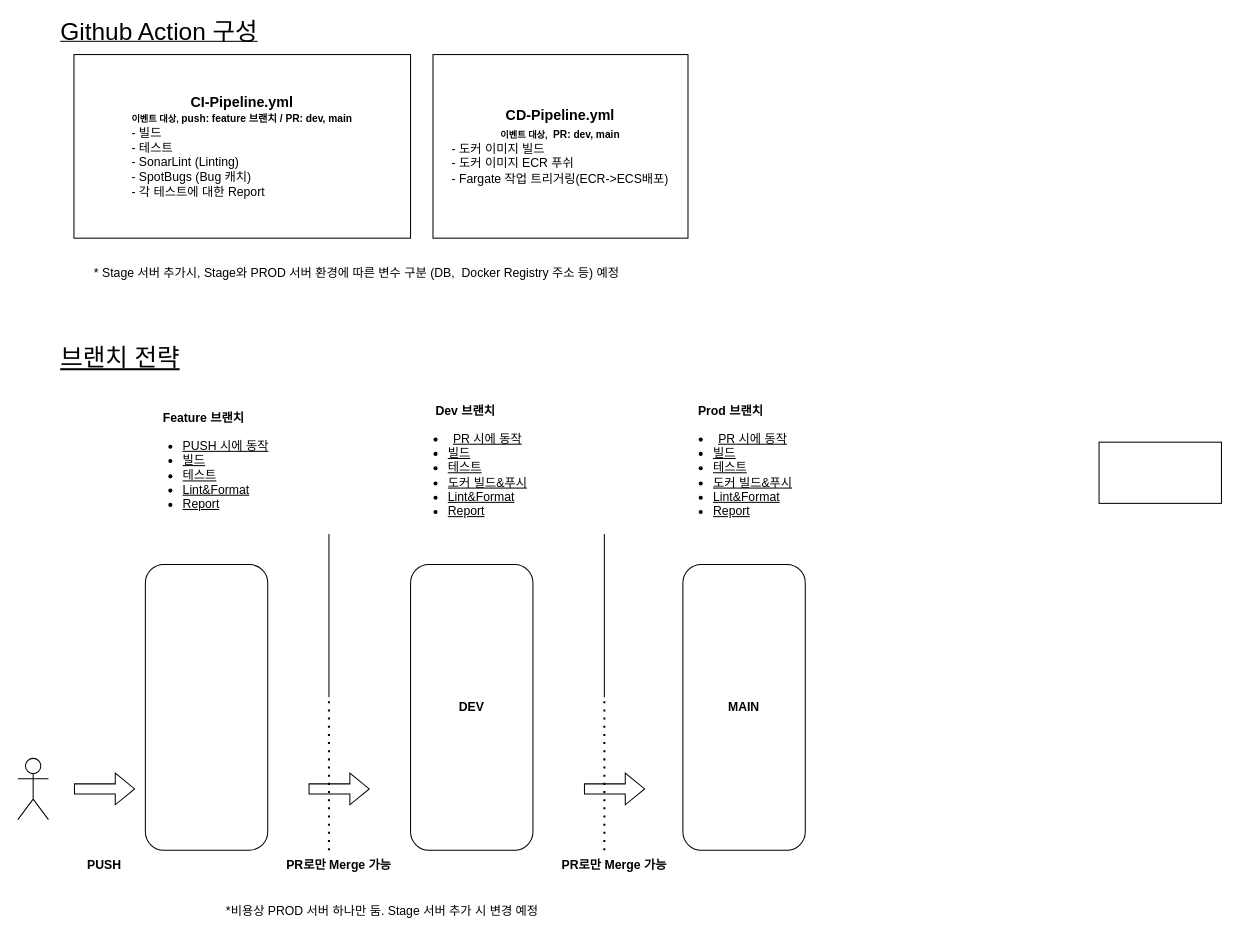
The diagram is 1239 pixels wide and 945 high, and some of its shapes have lost their labels. Here are the shapes that lost their labels. From the top down, the box of each, then its label:
(144, 564, 268, 850): FEATURE. {기능이름}
(17, 757, 48, 820): Actor
